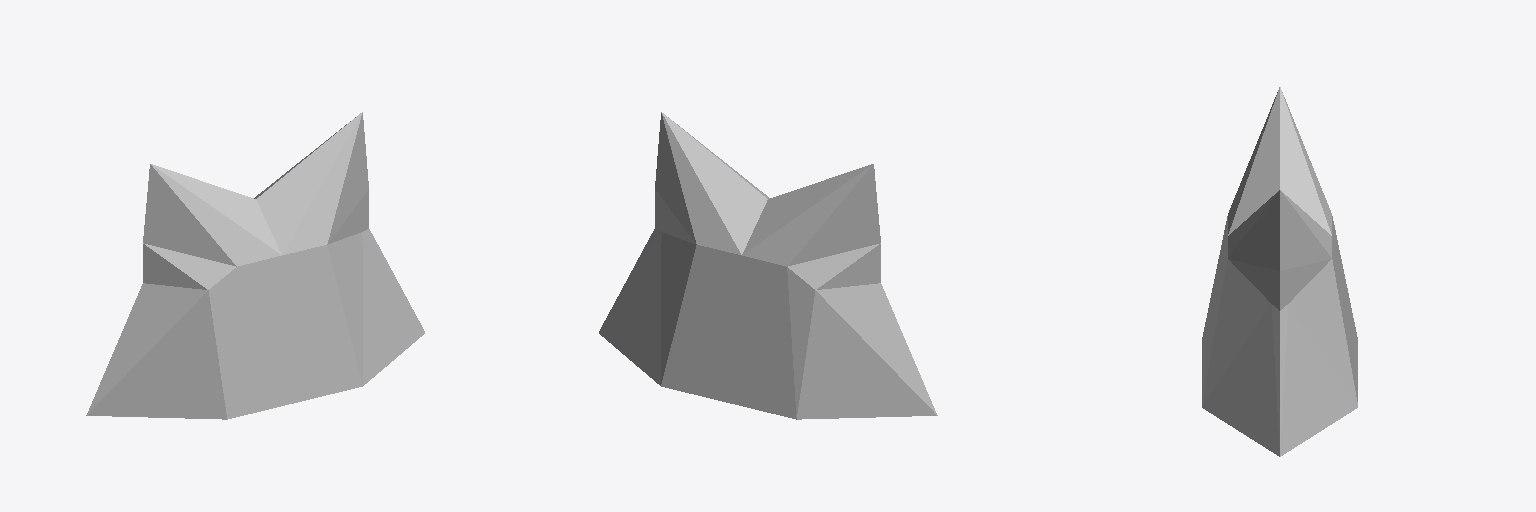
Rendered from xenon_leg_mid.obj.
The picture shows the model from 3 angles: view 1: azimuth 30°, elevation 25°; view 2: azimuth 150°, elevation 25°; view 3: azimuth 270°, elevation 25°; orthographic projection.
Visible parts, largest first — view 1: XenonLegMid; view 2: XenonLegMid; view 3: XenonLegMid.
Boxes of the visible parts, x1,y1,x2,y2 form: XenonLegMid: [86, 112, 424, 419]; XenonLegMid: [599, 112, 937, 419]; XenonLegMid: [1202, 87, 1357, 456].
Size of the model in its own units: 3 by 2 by 1.2.